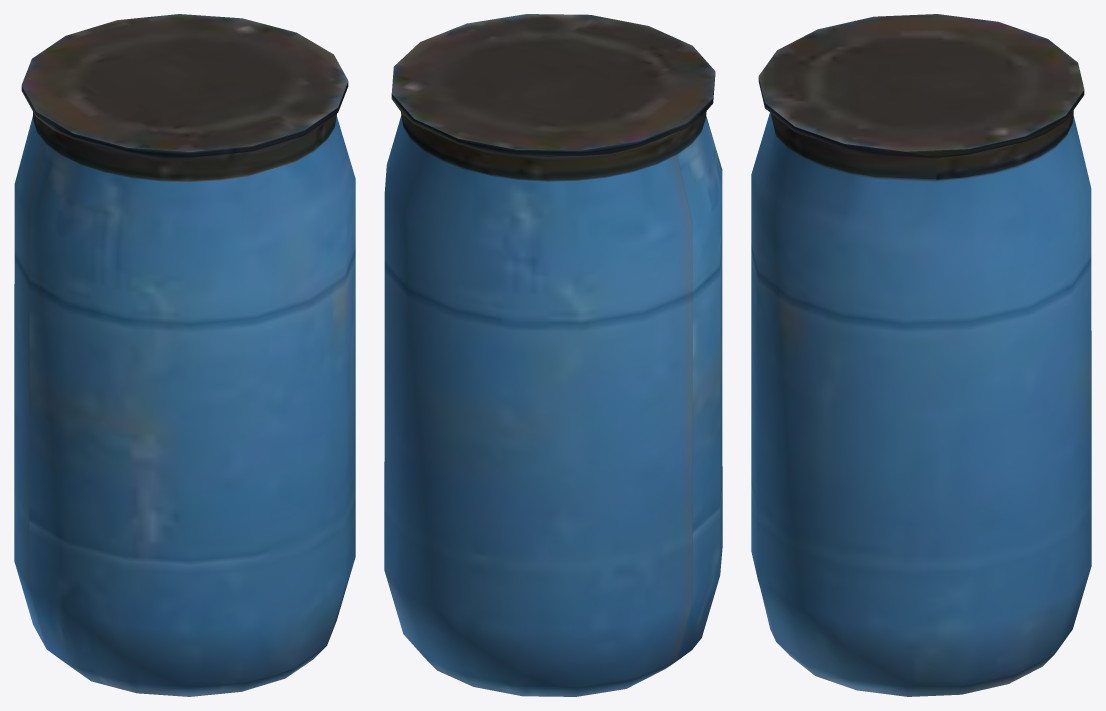
Rendered from bluebarrel001.glb.
3 views of the same model, side by side, from view 1: azimuth 30°, elevation 25°; view 2: azimuth 150°, elevation 25°; view 3: azimuth 270°, elevation 25° (orthographic).
Visible parts, largest first — view 1: 0_bluebarrel001; view 2: 0_bluebarrel001; view 3: 0_bluebarrel001.
Boxes of the visible parts, <box> form: 0_bluebarrel001: <box>14,14,355,696</box>; 0_bluebarrel001: <box>384,14,722,696</box>; 0_bluebarrel001: <box>751,14,1091,696</box>.
Size of the model in its own units: 0.7288 by 1.31 by 0.7289.
Materials: 1 (1 with a texture image).
